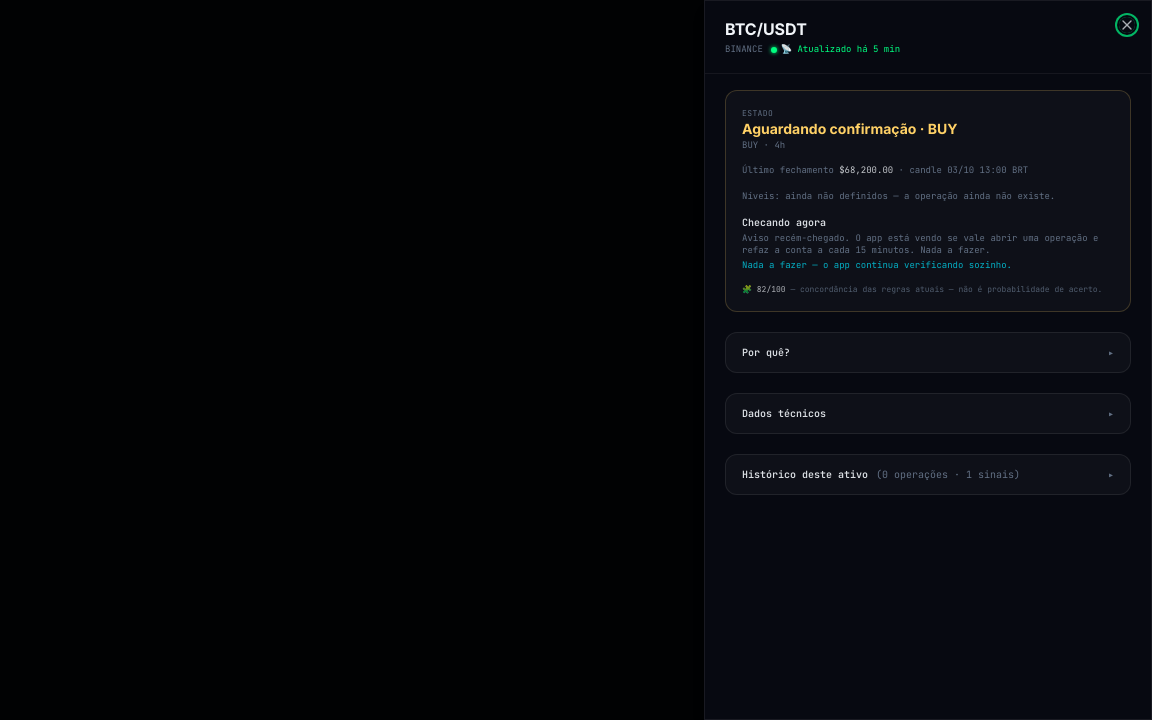
Test: AssetDrawer N3 — "Dados técnicos" e "Histórico deste ativo" › funding indisponível: diz "indisponível", nunca um número
The image size is (1152, 720).
Click the button "Dados técnicos ▸". click: (784, 414)
box: x1=726 y1=394 x2=1130 y2=433
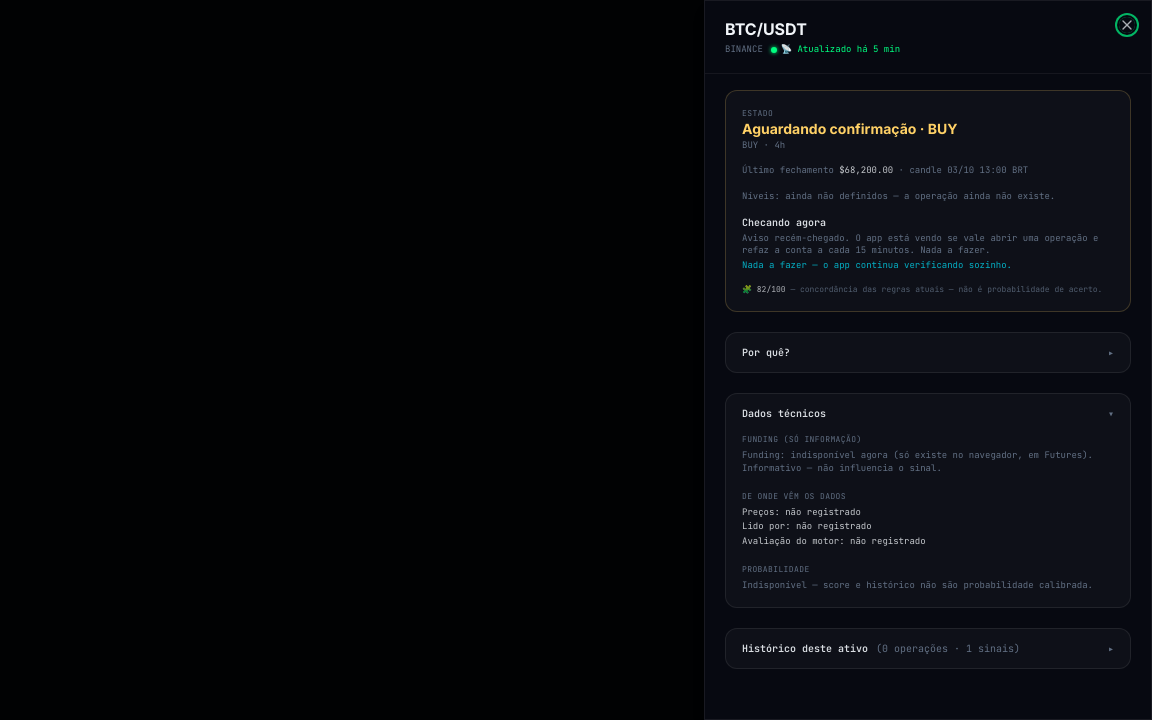
Check: the text "Funding: indisponível agora" is shown, box x1=742 y1=449 x2=1093 y2=474
